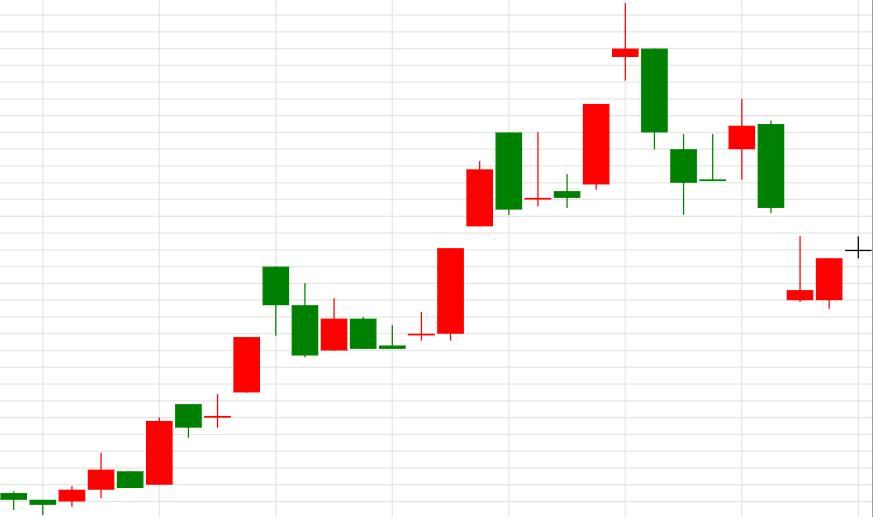evening_star_fall: (378, 5, 668, 350)
